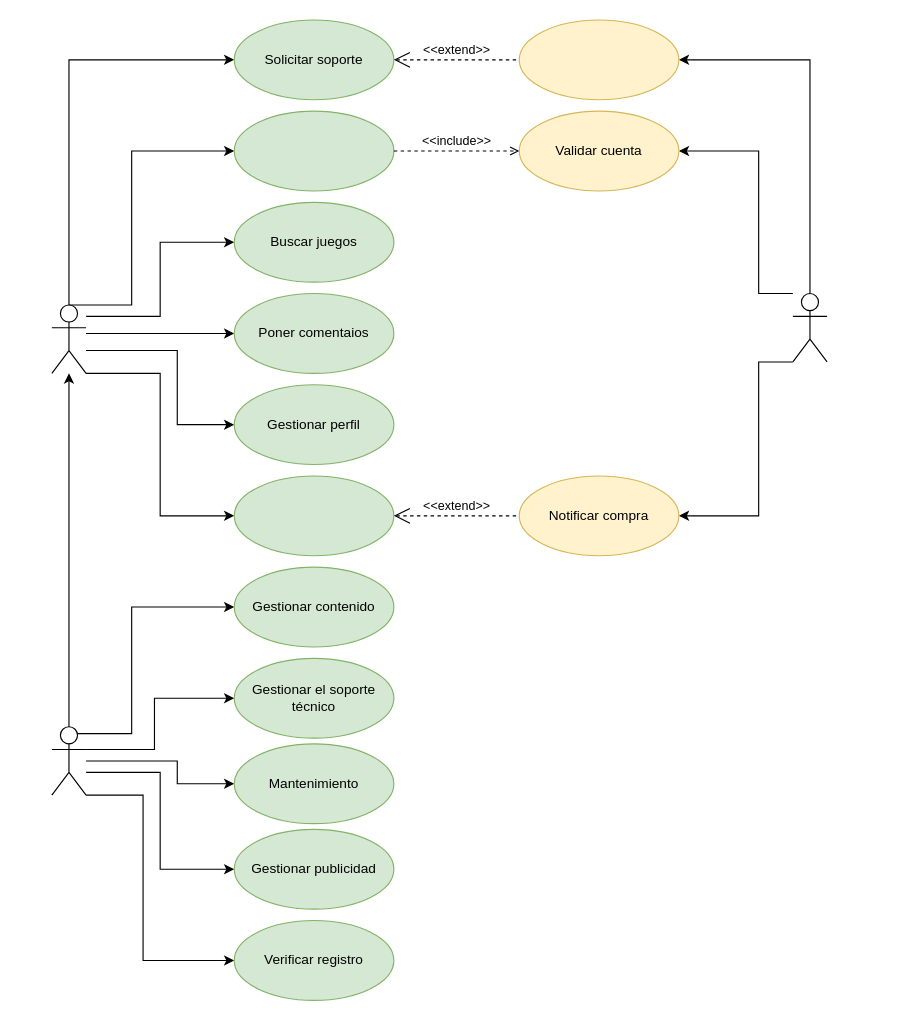
Image size: 907x1020. Some labels were removed from this diagram. Here are the shapes that lost their labels. From the top down, the centre of each, then its label:
At point 598,59: "Enviar solucion".
At point 313,150: "Registrarse".
At point 68,338: "Usuario General".
At point 809,327: "Sistema de norificaciones".
At point 313,515: "Comprar juegos".
At point 68,760: "Admisnistrador".
